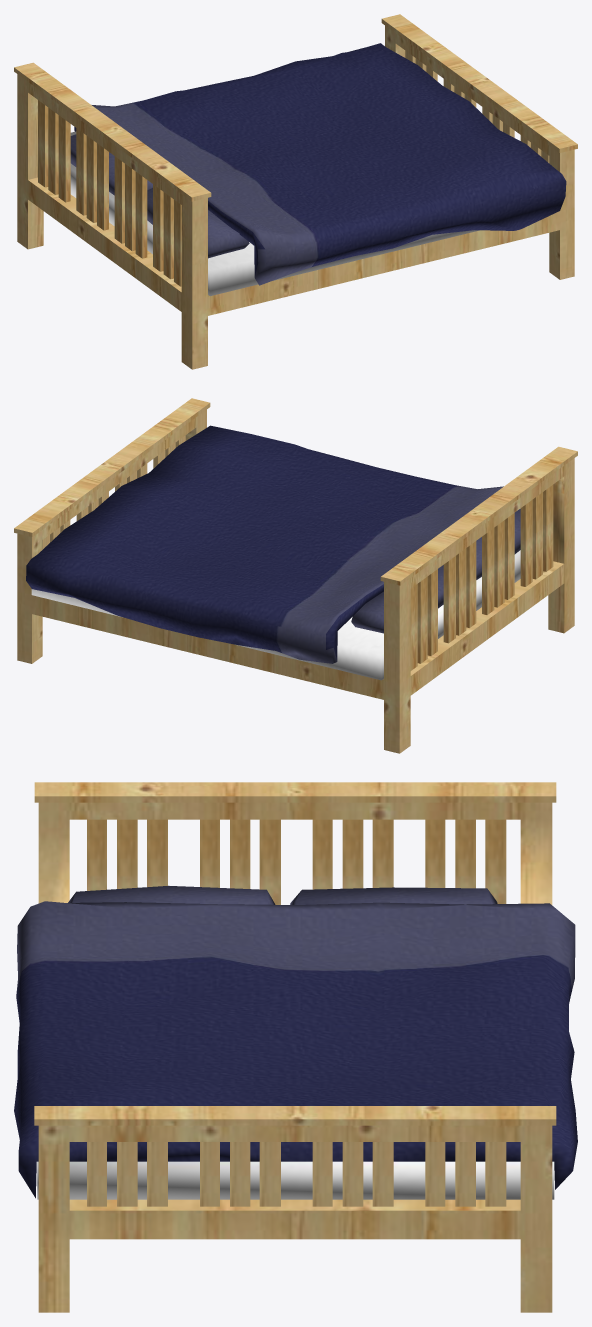
The model's file is bed_double_1.obj.
3 views of the same model, one above another, from view 1: azimuth 30°, elevation 25°; view 2: azimuth 150°, elevation 25°; view 3: azimuth 270°, elevation 25° (orthographic). The views are drawn at different scales.
Visible parts, largest first — view 1: bed_double_1; view 2: bed_double_1; view 3: bed_double_1.
Boxes of the visible parts, <box> form: bed_double_1: <box>14,14,577,369</box>; bed_double_1: <box>14,398,577,753</box>; bed_double_1: <box>14,782,577,1312</box>.
Size of the model in its own units: 19.99 by 8.59 by 17.22.
1 material, 1 textured.
